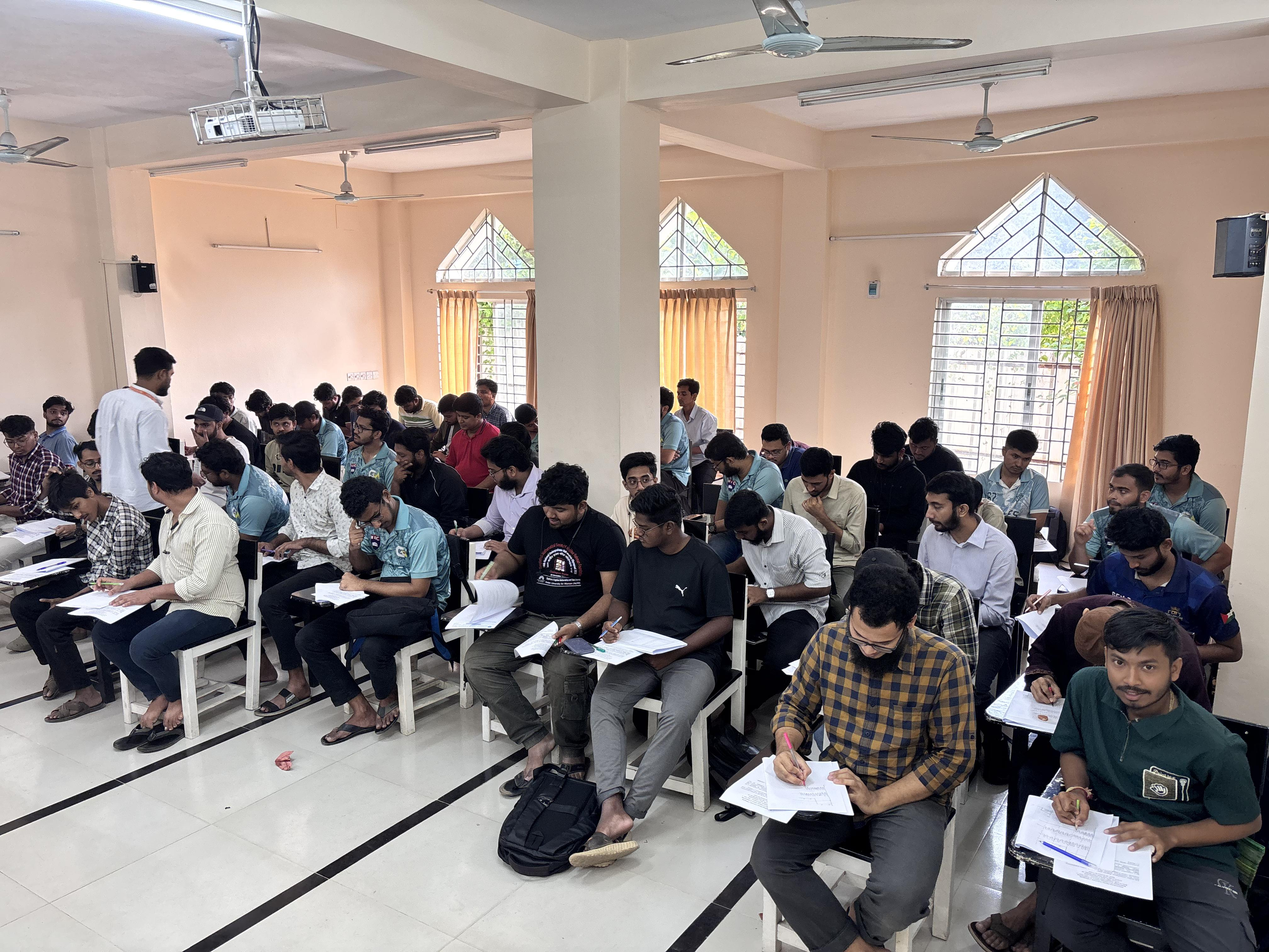copying: (605, 491, 720, 704), (126, 451, 228, 665), (324, 476, 434, 657), (469, 438, 552, 544), (40, 471, 115, 583), (197, 441, 276, 526), (702, 428, 760, 501), (3, 410, 45, 488), (513, 400, 542, 439), (338, 384, 364, 415)
invigilator: (91, 342, 194, 544)
no_cheating: (756, 565, 966, 852), (1037, 609, 1222, 895), (499, 460, 619, 713), (720, 483, 812, 620), (1101, 510, 1200, 614), (789, 444, 859, 551), (920, 475, 991, 579), (386, 427, 460, 522), (1142, 429, 1211, 513), (854, 418, 909, 516), (991, 426, 1039, 512), (342, 405, 392, 481), (610, 450, 666, 515), (1095, 465, 1151, 520), (451, 389, 487, 474), (905, 407, 943, 480), (754, 413, 798, 476), (390, 380, 431, 443), (74, 438, 113, 486), (40, 391, 82, 435), (471, 370, 503, 424), (186, 406, 225, 449), (676, 376, 708, 428), (310, 380, 340, 420), (216, 380, 246, 418), (269, 402, 298, 441), (436, 393, 459, 433)
side_talking: (263, 428, 358, 615)
